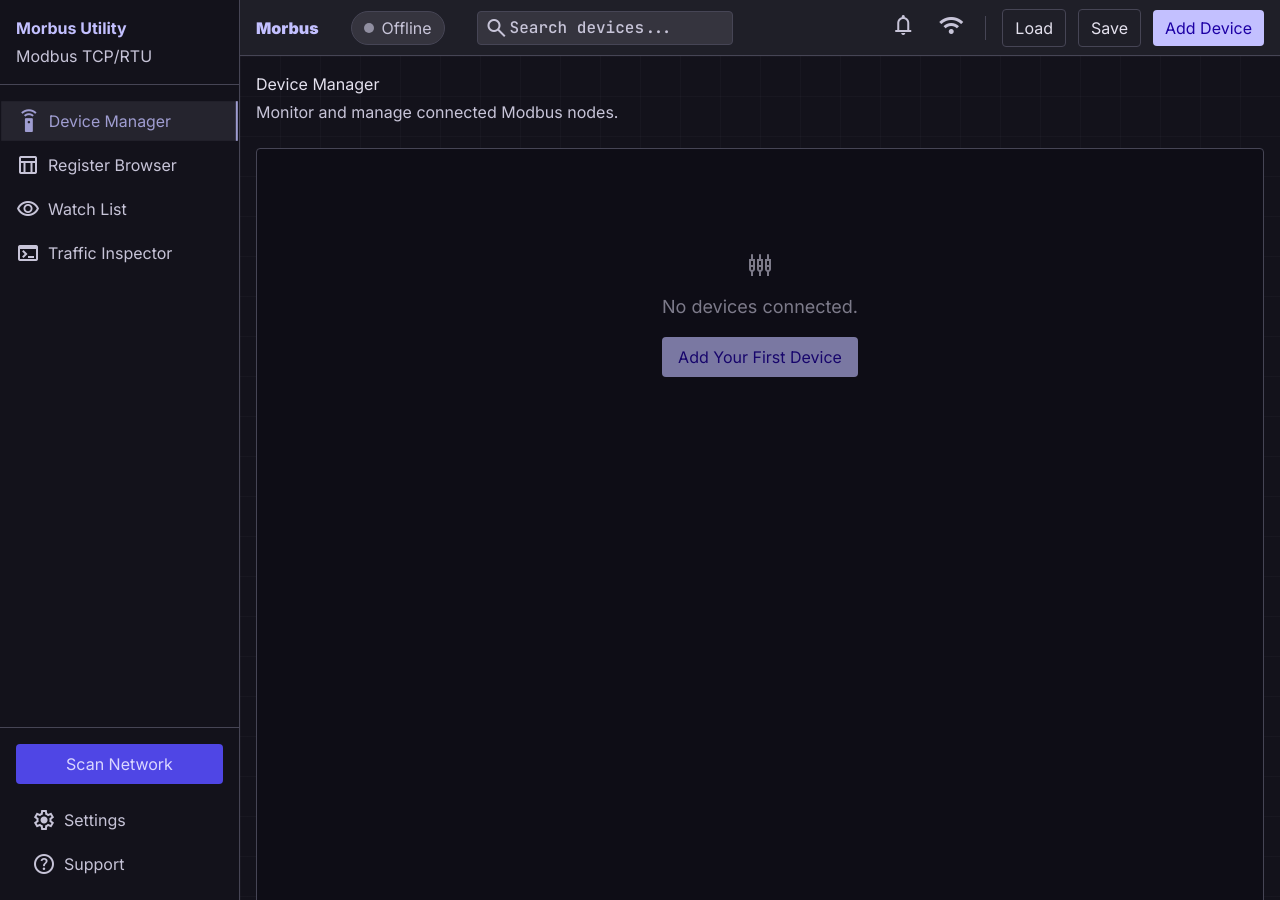
Test: loading an empty configuration clears the active device from the UI
Click the button "Add Device" at (1208, 28), box [1153, 10, 1264, 46]
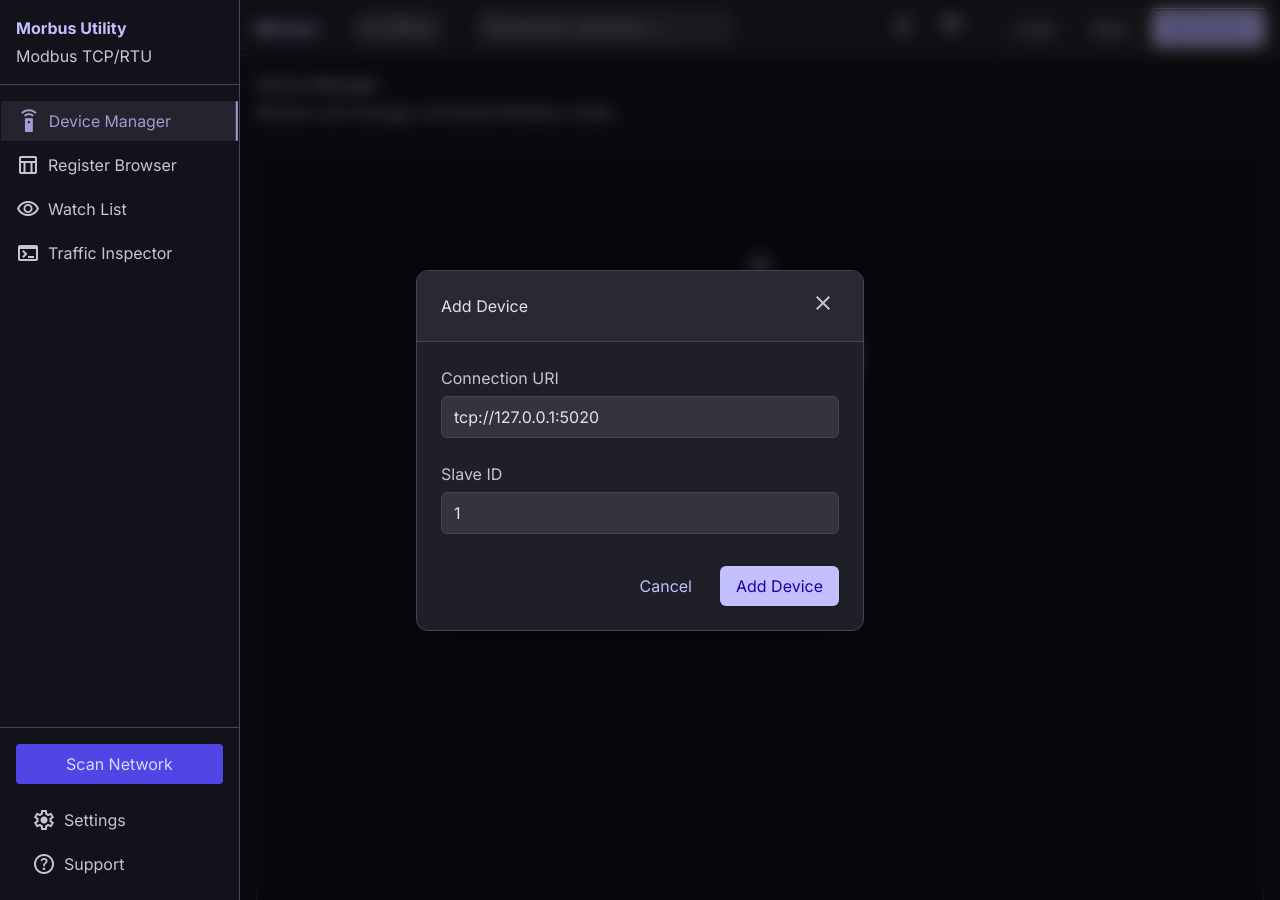
Click the button "Add Device" at (780, 586), box [720, 566, 839, 606]
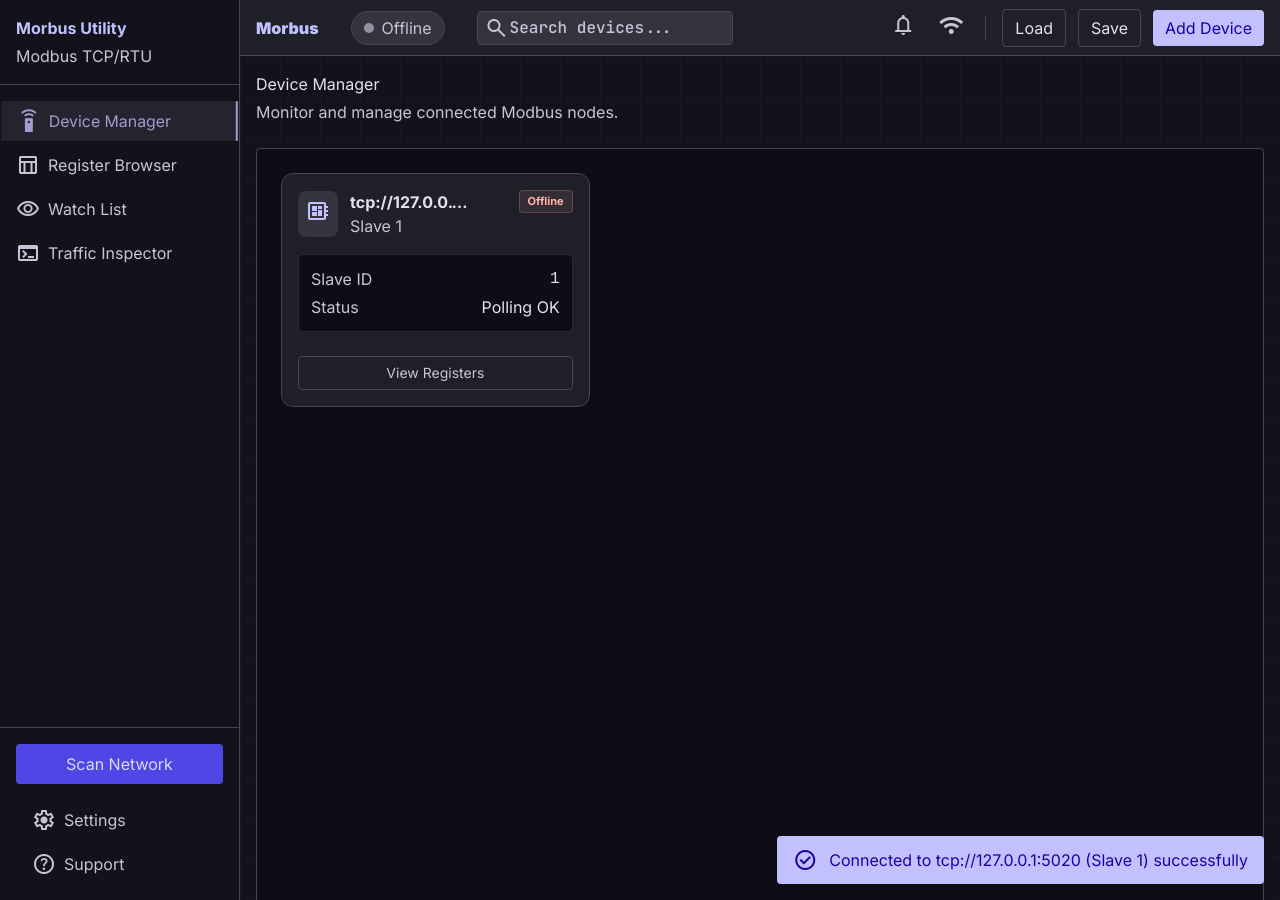
expect the heading "tcp://127.0.0.1:5020" is shown: met, box [350, 190, 470, 214]
Click the button "Load" at (1034, 28), box [1002, 8, 1066, 46]
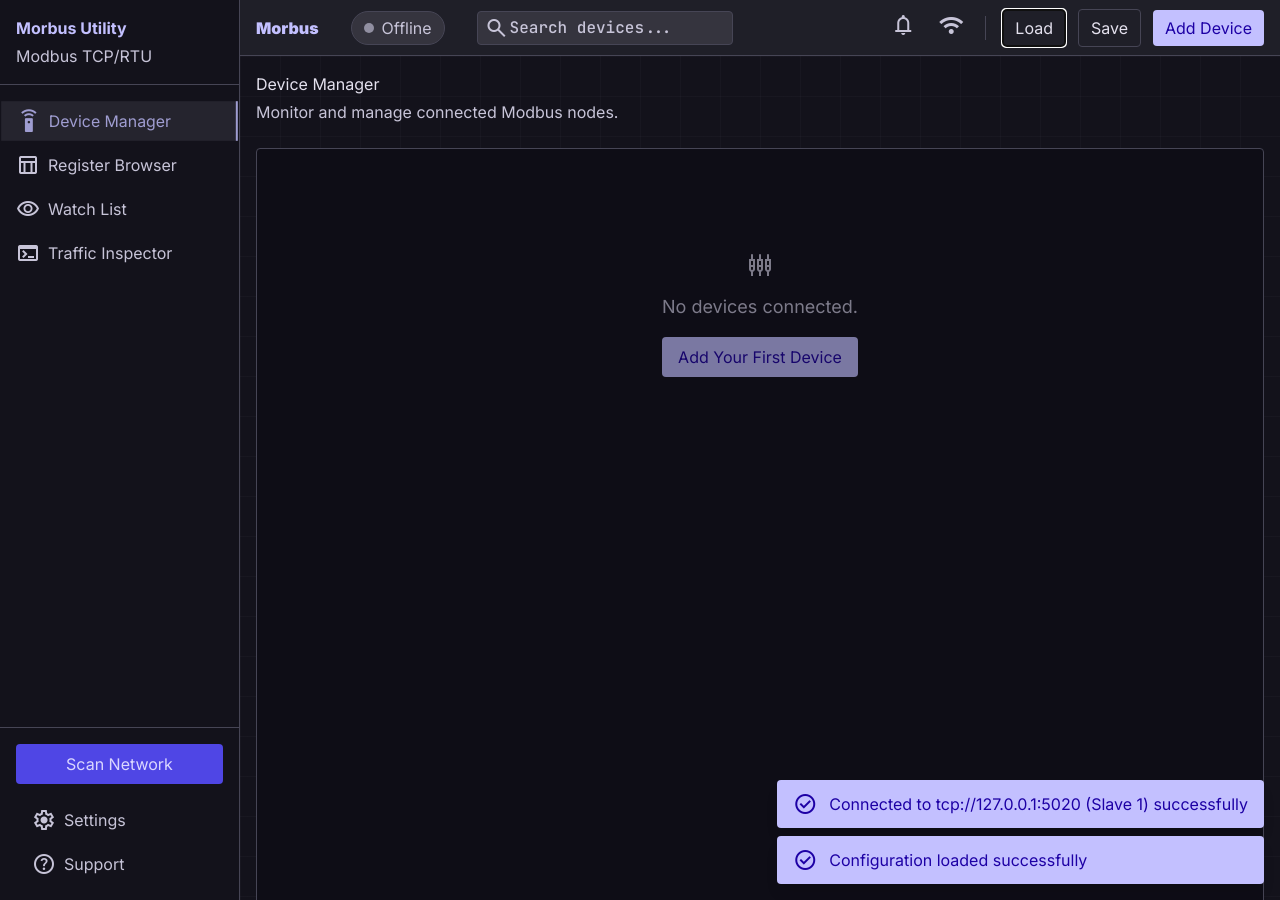
expect the text "No devices connected." is shown: met, box [662, 293, 858, 321]
